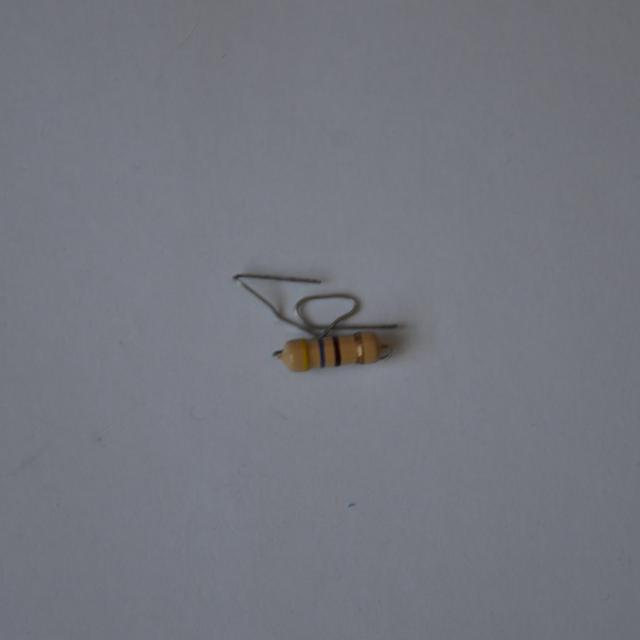brown: (335, 336, 341, 363)
gold: (355, 334, 363, 363)
resistor: (283, 324, 388, 379)
violet: (319, 337, 325, 366)
yellow: (303, 341, 308, 368)
